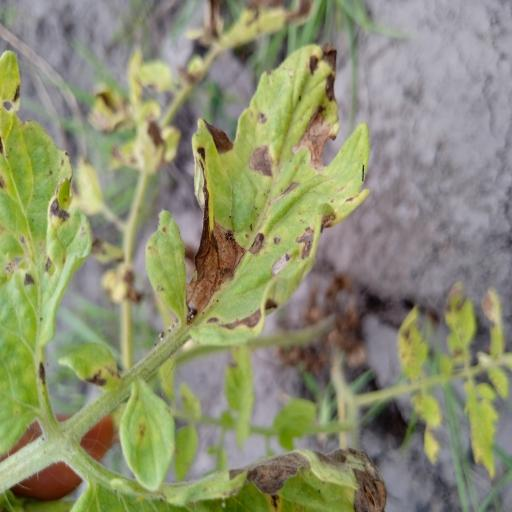Tomato_Brown_Spots: (147, 40, 376, 352), (0, 43, 93, 461)
